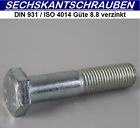screw: (5, 63, 137, 118)
